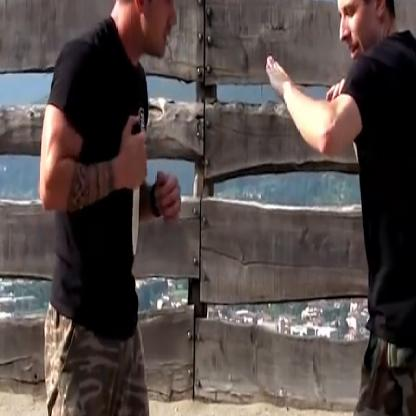knife: (115, 103, 150, 262)
